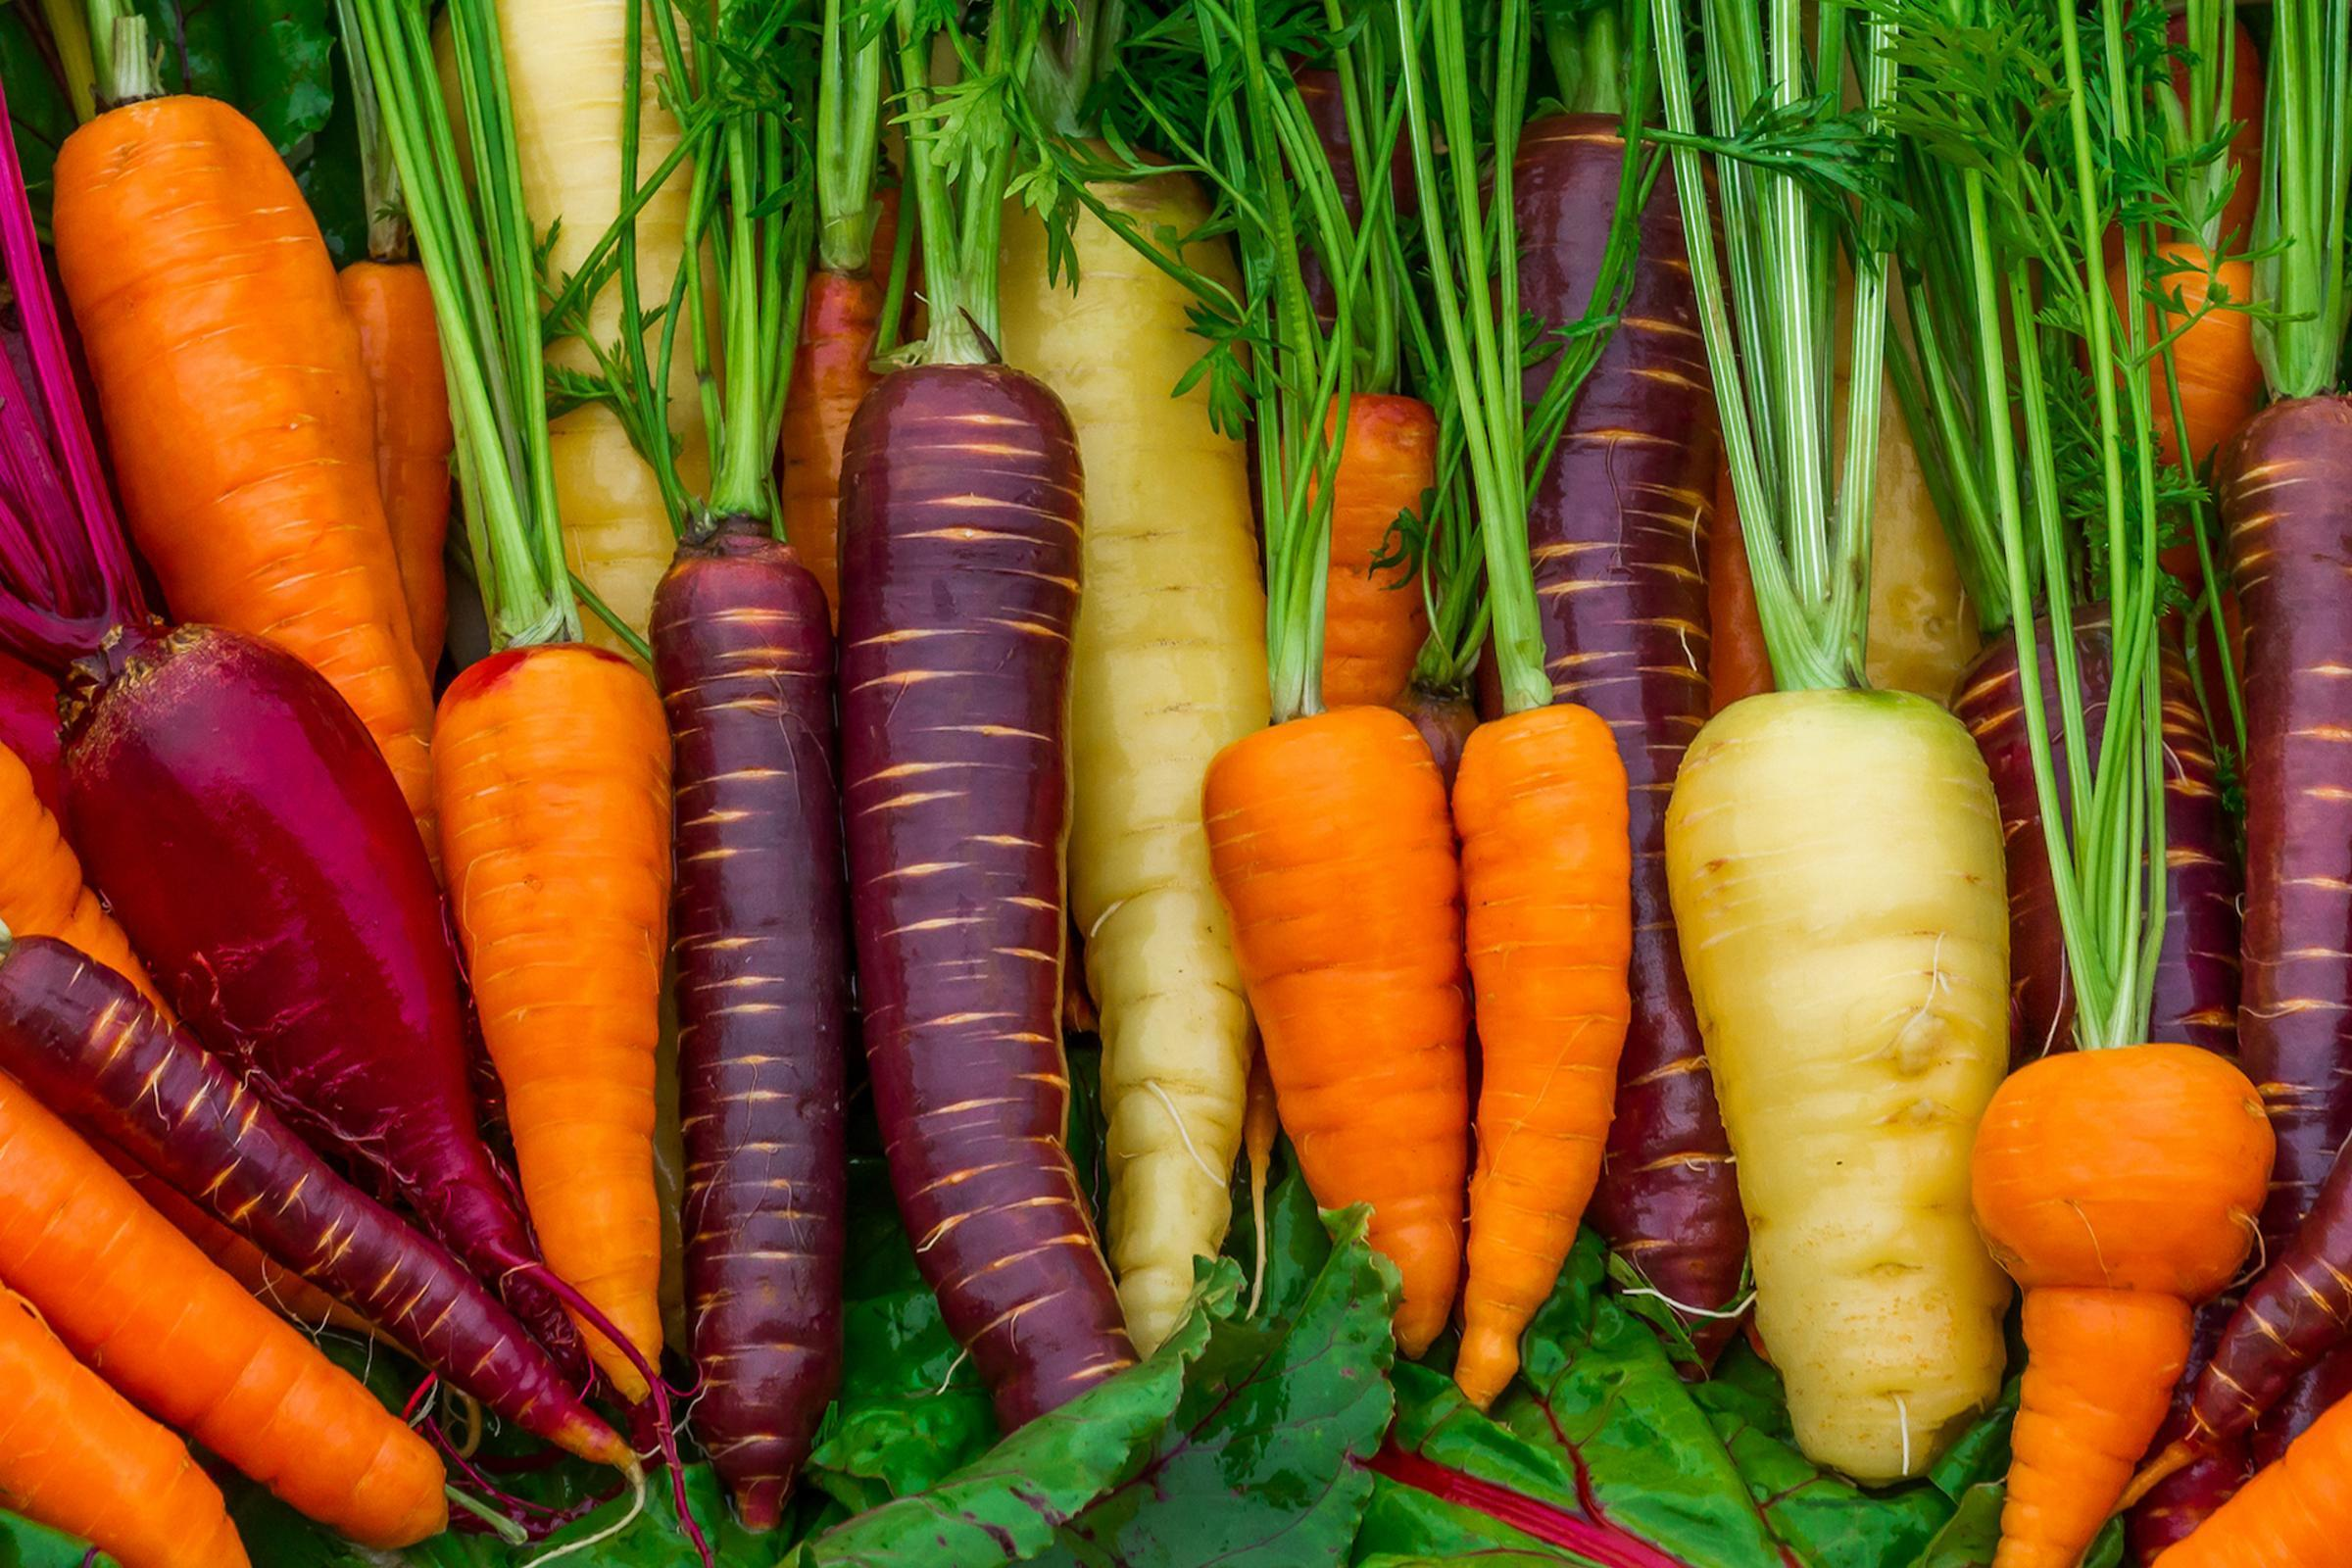carrot: (1199, 709, 1612, 1362), (35, 73, 427, 649), (423, 632, 693, 1325), (3, 1097, 362, 1568), (1995, 1043, 2219, 1568), (2098, 245, 2250, 495)
